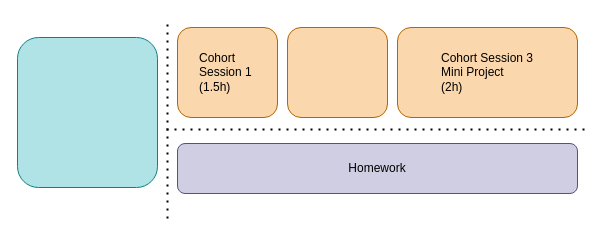
Some shapes in this 606 by 237 pixel diagram are drawn without their labels. The centre of each missing label's shape, as x and y in pixels:
Cohort Session 2 (1.5h): (337,72)
Pre-Class Activities: - Reading - Quiz: (87,112)
